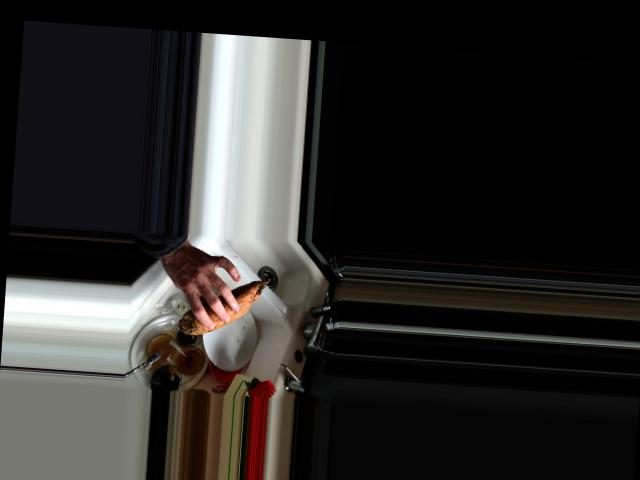sweet_potato: (179, 271, 271, 340)
